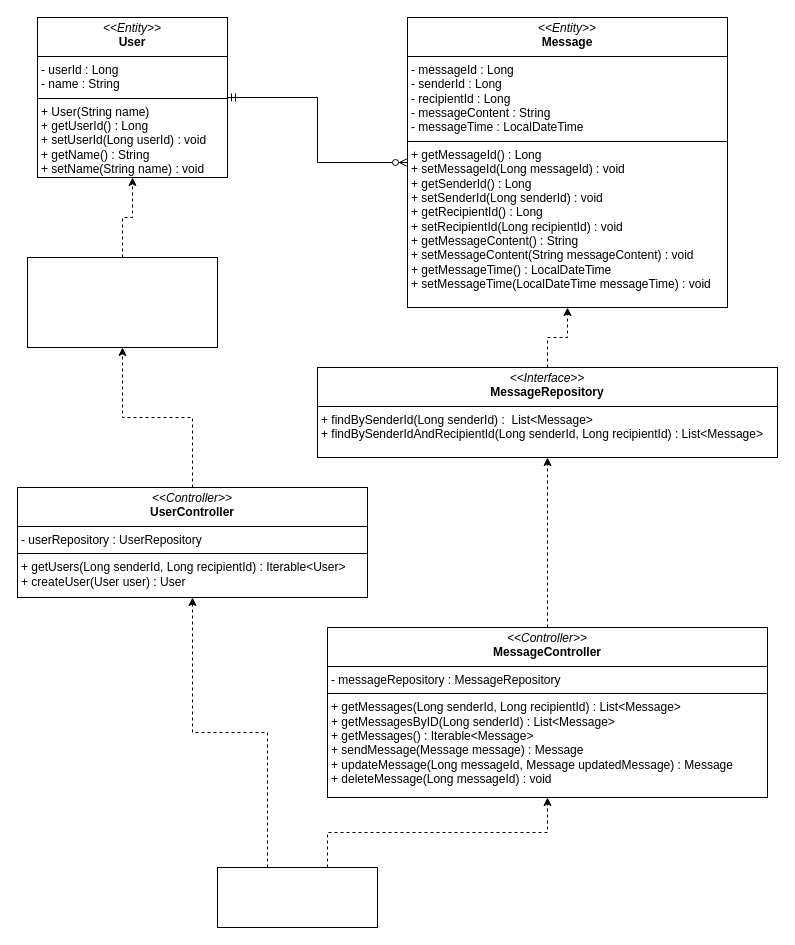
Some shapes in this 795 by 945 pixel diagram are drawn without their labels. Each missing label, with the centre of its shape:
<<Interface>> UserRepository: (x=122, y=302)
Main + main(String[] args) : void: (x=297, y=897)
